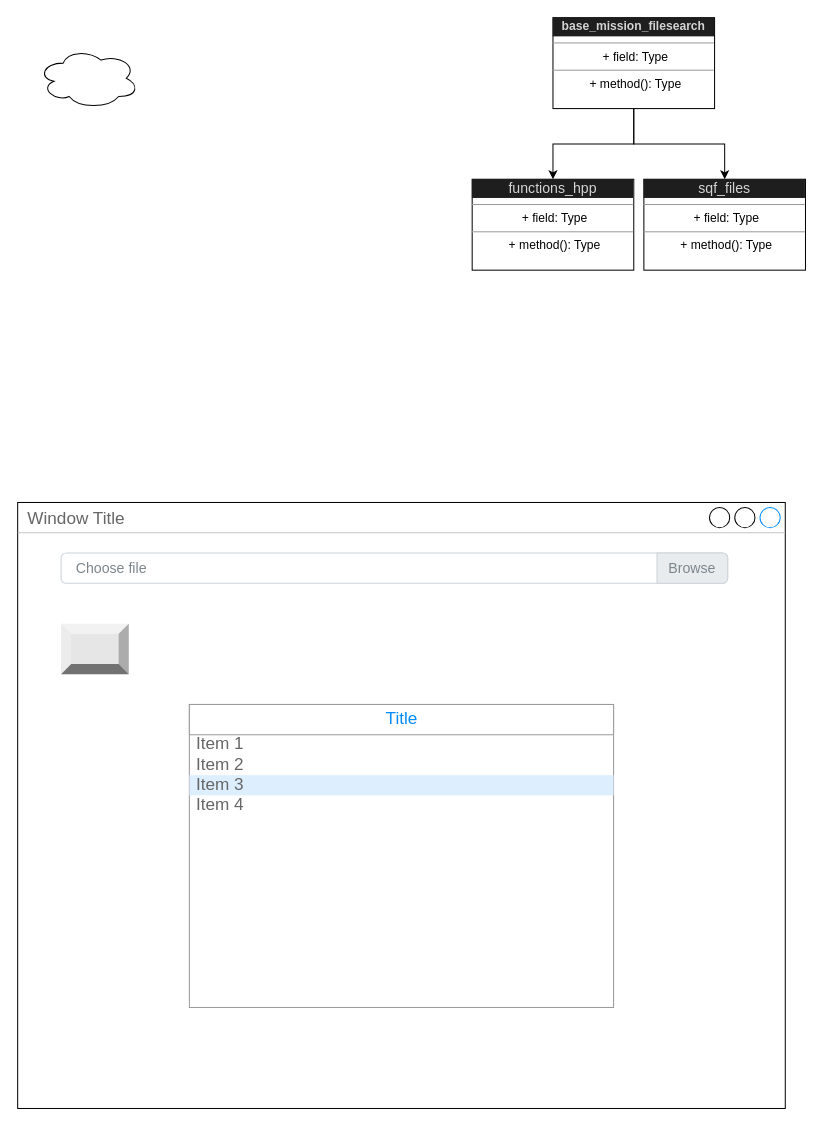
Image size: 823x1126. Some labels were removed from this diagram. The shapes that lost their labels are listed below. From the top down, each one's box as (x1, y1, x2, y2) in pixels, then its label:
(37, 47, 139, 109): DB
(61, 623, 128, 674): Button
